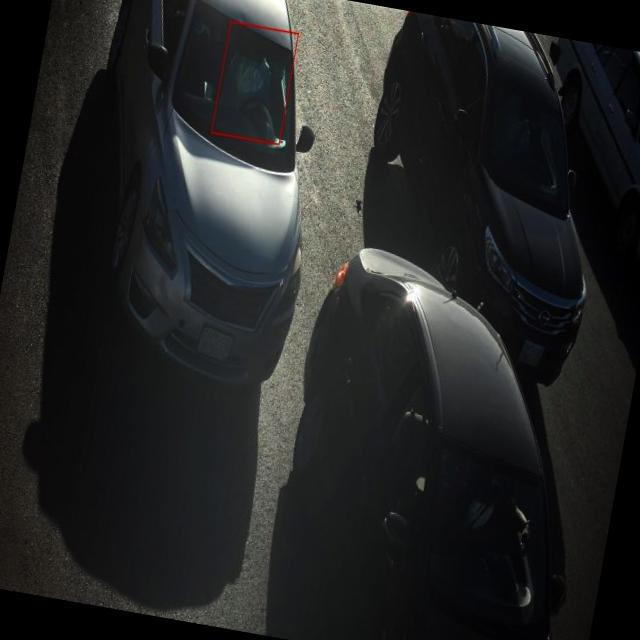person_without_seatbelt: (211, 44, 291, 129)
